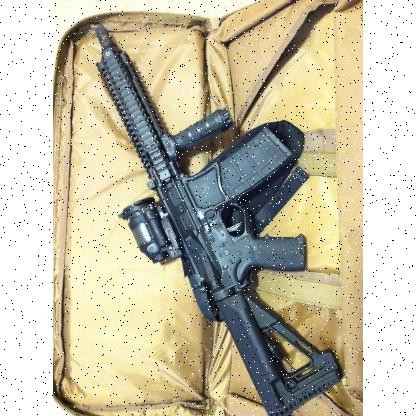gun: (94, 21, 342, 415)
